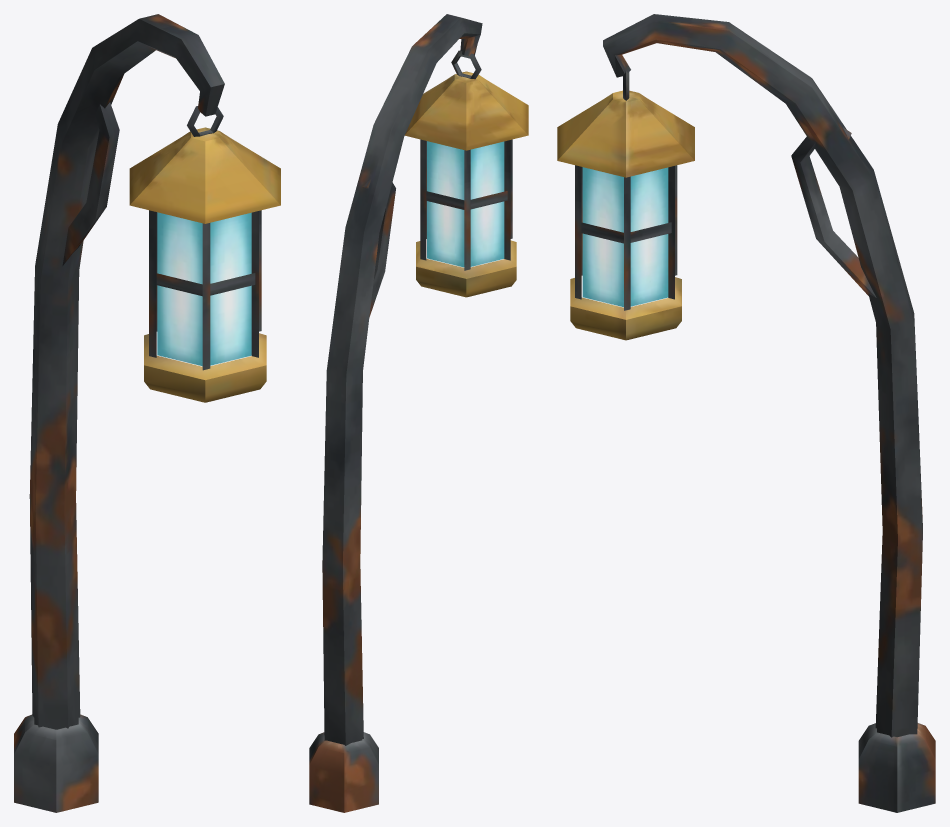
Rendered from fog-lamp.glb.
3 renders of one model, left to right at view 1: azimuth 30°, elevation 25°; view 2: azimuth 150°, elevation 25°; view 3: azimuth 270°, elevation 25°, orthographic. The views are drawn at different scales.
Visible parts, largest first — view 1: fog-lamp; view 2: fog-lamp; view 3: fog-lamp.
Boxes of the visible parts, bbox=[...] form: fog-lamp: bbox=[14, 14, 280, 812]; fog-lamp: bbox=[309, 14, 528, 812]; fog-lamp: bbox=[557, 14, 935, 812].
Bounding box in the file's own units: 0.1643 × 0.8849 × 0.391.
2 materials, 2 textured.
